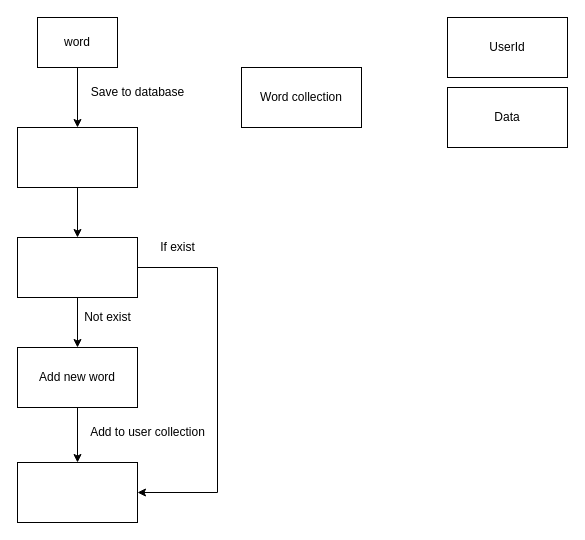
Some shapes in this 585 by 540 pixel diagram are drawn without their labels. The shapes that lost their labels are listed below. From the top down, each one's box as (x1, y1, x2, y2) in pixels, then its label:
(16, 126, 138, 188): Word Database
(16, 236, 138, 298): Check in Database
(16, 462, 138, 522): User Collection
